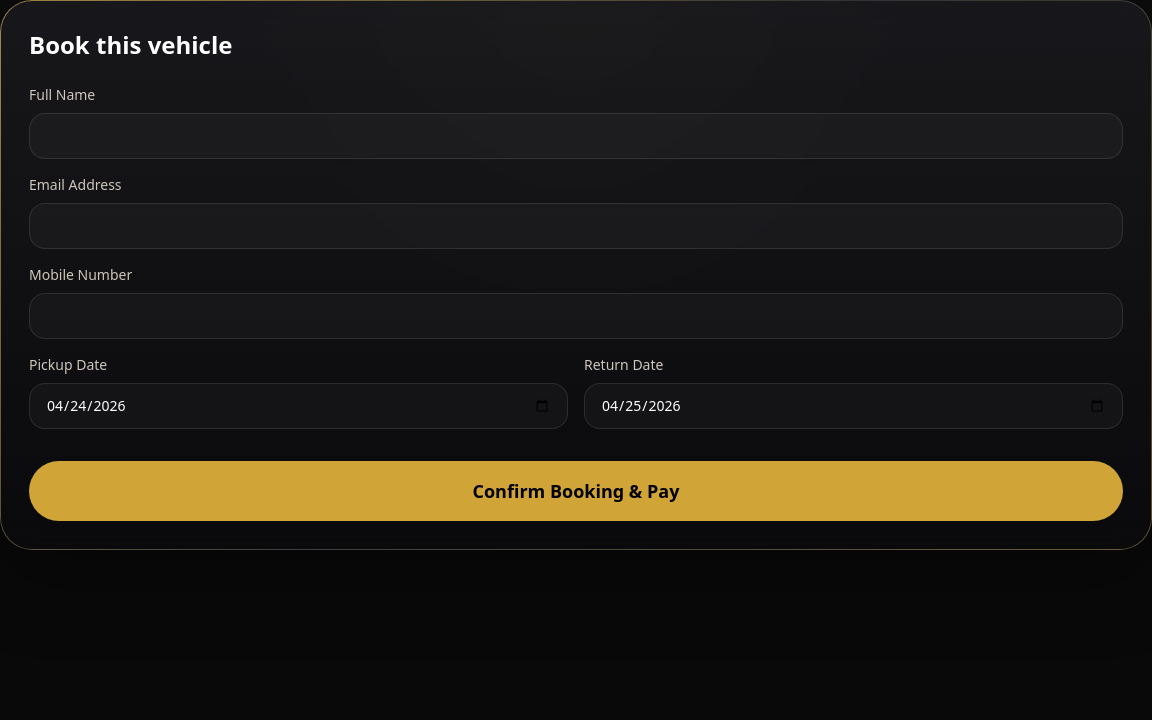
Test case: BookingForm › submits booking successfully
Type "John Doe" into the field labelled "Full Name" at (576, 136), box [29,113,1123,159]
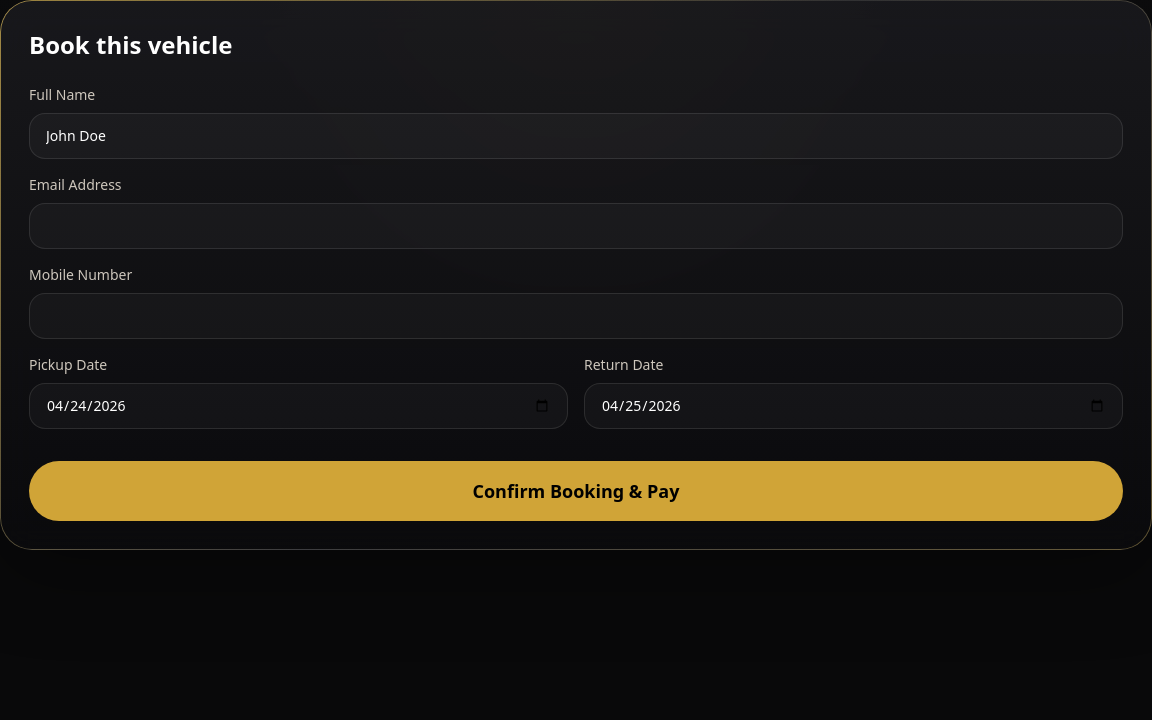
Type "john@example.com" into the field labelled "Email Address" at (576, 226), box [29,203,1123,249]
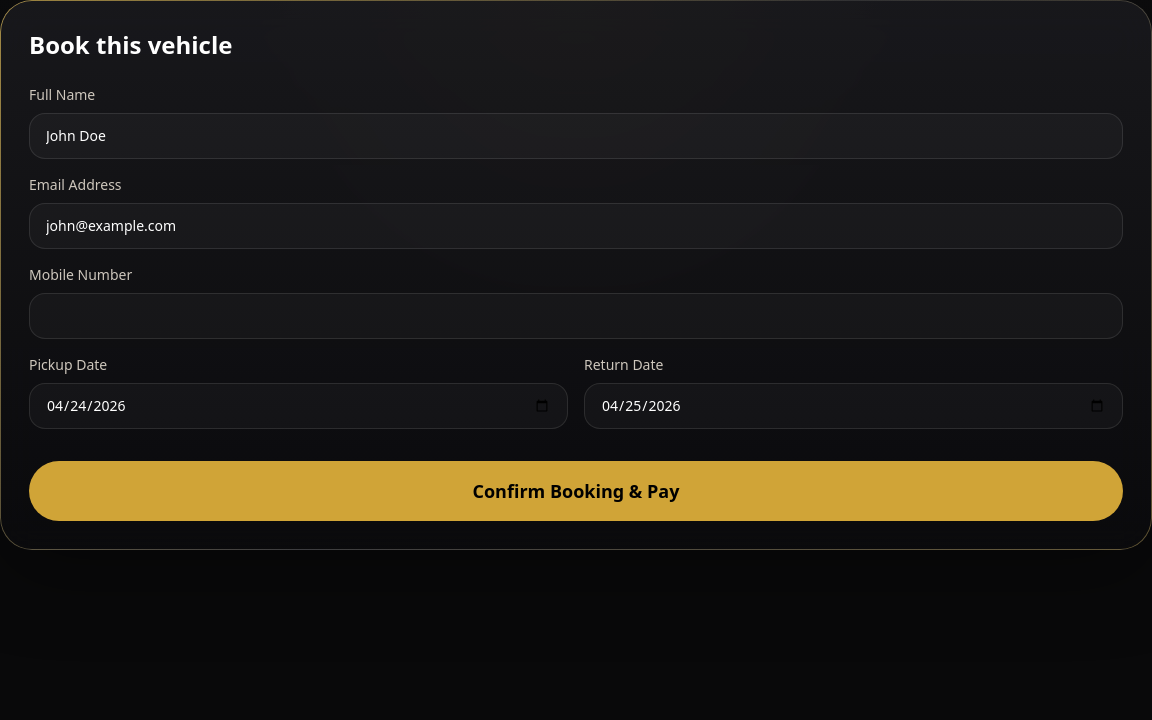
Type "12345678" into the field labelled "Mobile Number" at (576, 316), box [29,293,1123,339]
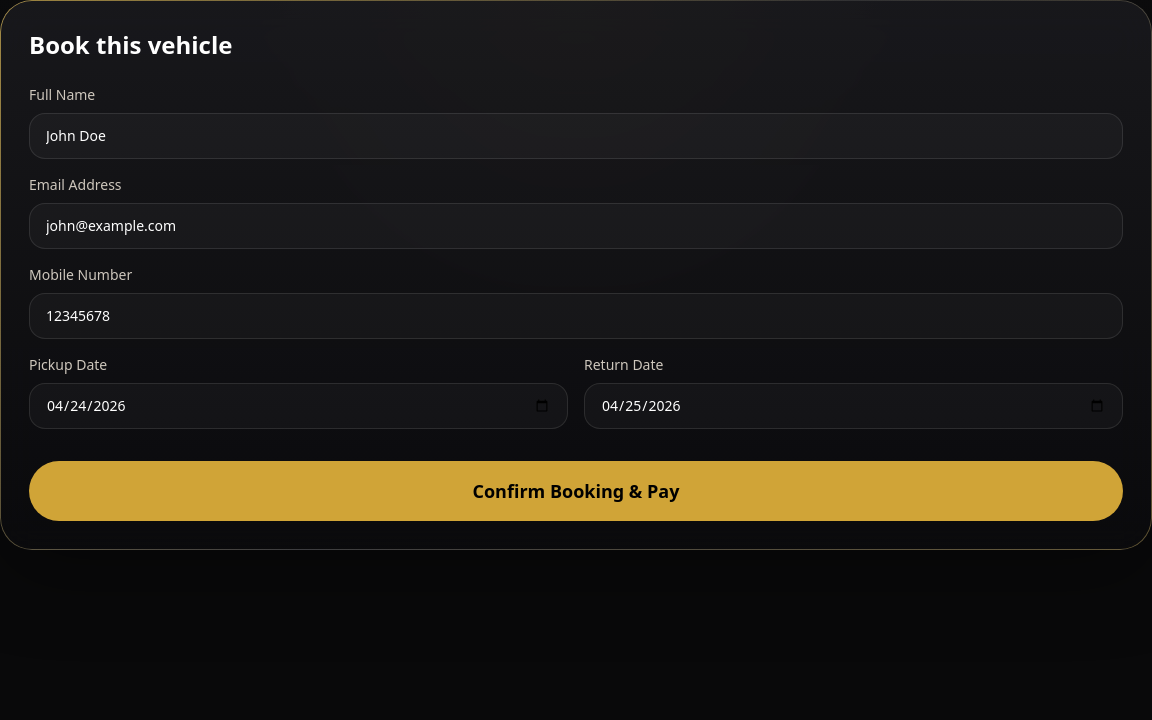
Type "2026-05-01" into the date field labelled "Pickup Date" at (298, 406), box [29,383,568,429]
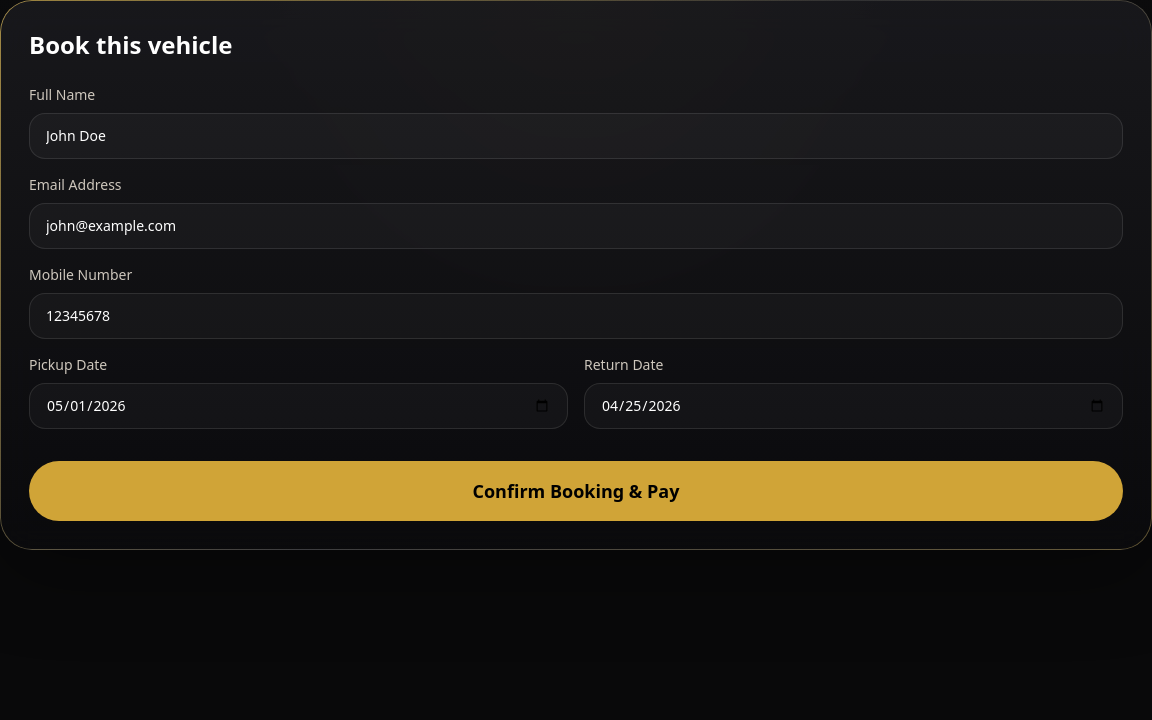
Type "2026-05-02" into the date field labelled "Return Date" at (854, 406), box [584,383,1123,429]
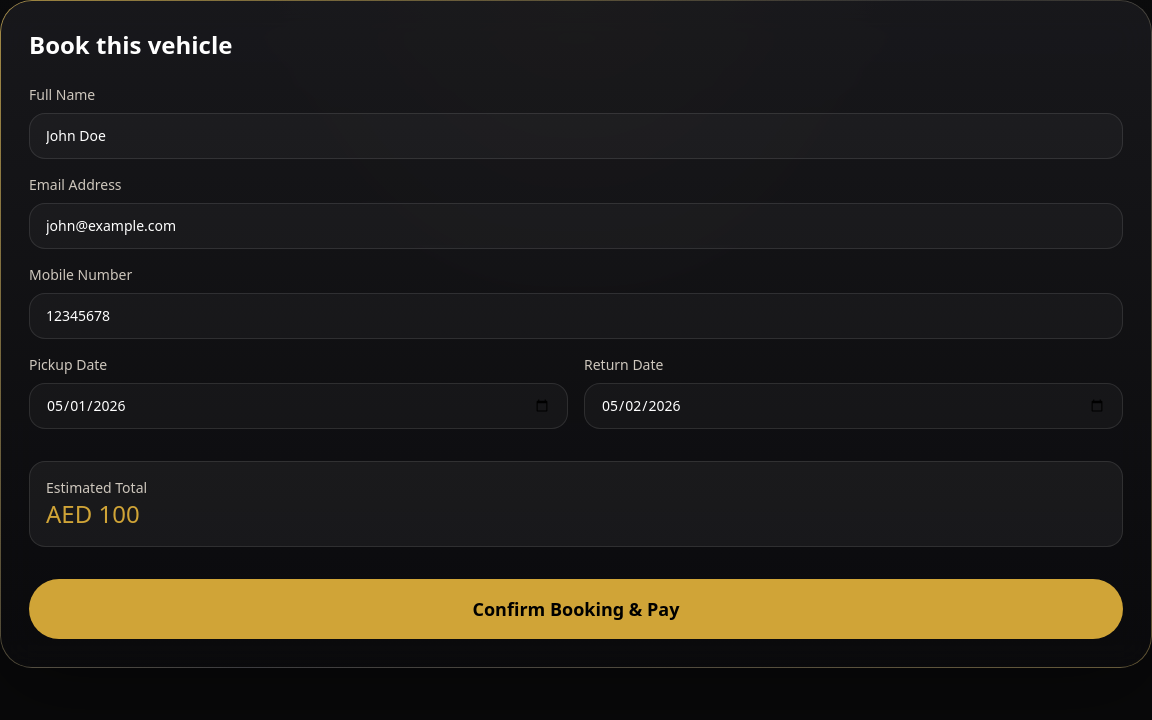
Click the button "Confirm Booking & Pay" at (576, 609), box [29,579,1123,639]
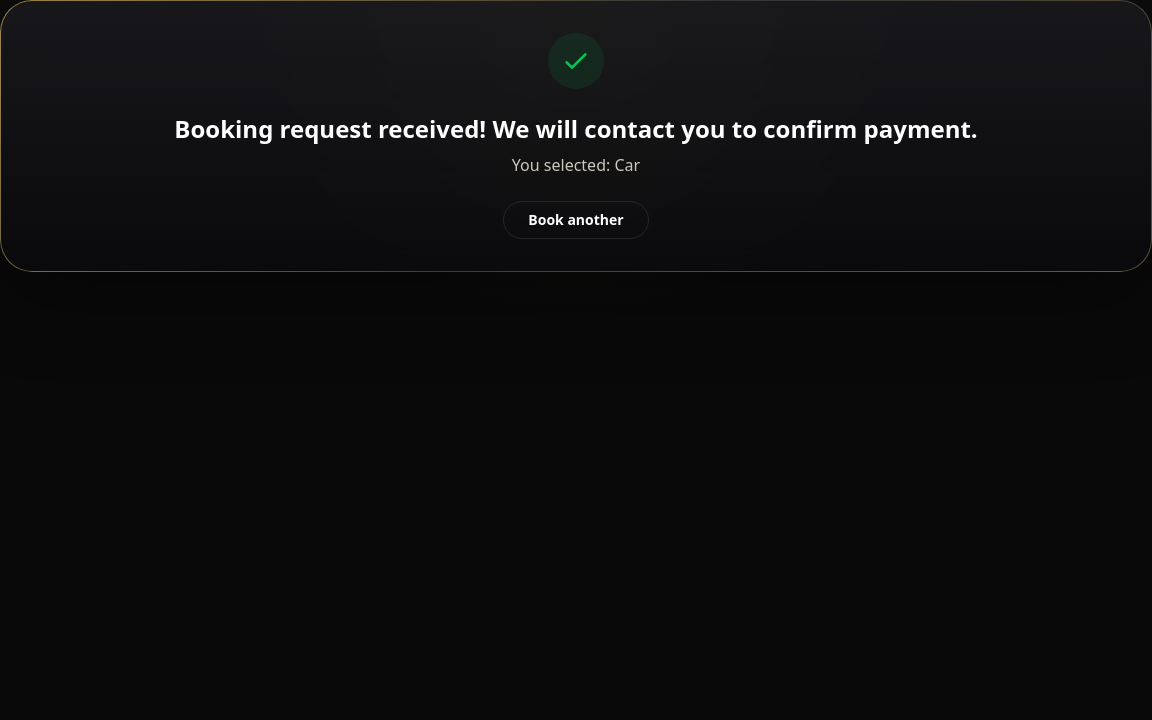
expect the heading "Booking request received" is shown: met, box [174,112,978,145]
